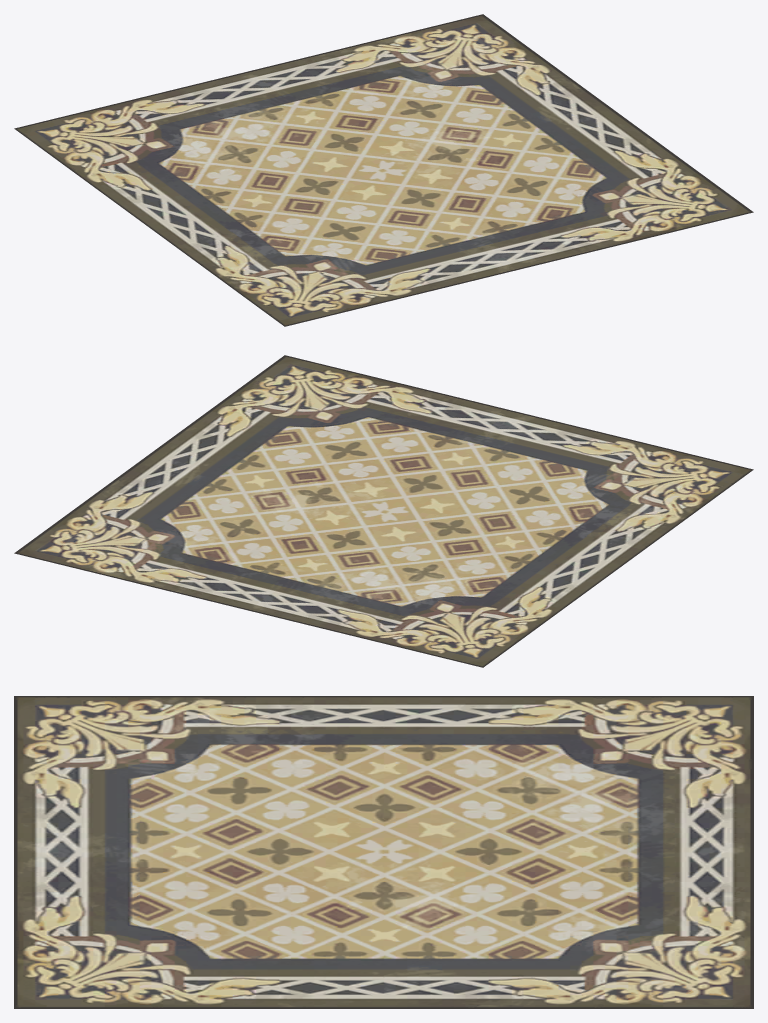
Rendered from my_teaparty_01_carpet_02.glb.
The picture shows the model from 3 angles, top to bottom: view 1: azimuth 30°, elevation 25°; view 2: azimuth 150°, elevation 25°; view 3: azimuth 270°, elevation 25°; orthographic projection. The views are drawn at different scales.
Visible parts, largest first — view 1: my_teaparty_01_carpet_02; view 2: my_teaparty_01_carpet_02; view 3: my_teaparty_01_carpet_02.
Part boxes in pixels (<box>): my_teaparty_01_carpet_02: <box>14,14,753,326</box>; my_teaparty_01_carpet_02: <box>14,355,753,667</box>; my_teaparty_01_carpet_02: <box>14,696,753,1008</box>.
Bounding box in the file's own units: 0.03 × 0 × 0.03.
Materials: 1 (1 with a texture image).
